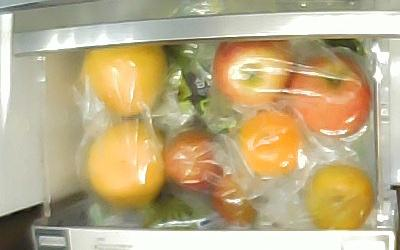apple_vinyl: (291, 57, 371, 138), (213, 40, 292, 106)
grapefruit_vinyl: (89, 121, 163, 208), (84, 44, 167, 117)
persimmon_vinyl: (306, 164, 374, 230), (238, 111, 300, 175)
prune_vinyl: (164, 129, 224, 191), (212, 176, 256, 225)
